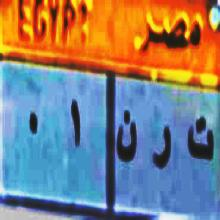0: (27, 104, 43, 150)
1: (66, 90, 86, 160)
noon: (115, 105, 138, 177)
raa: (152, 116, 173, 180)
taa: (183, 109, 216, 176)
